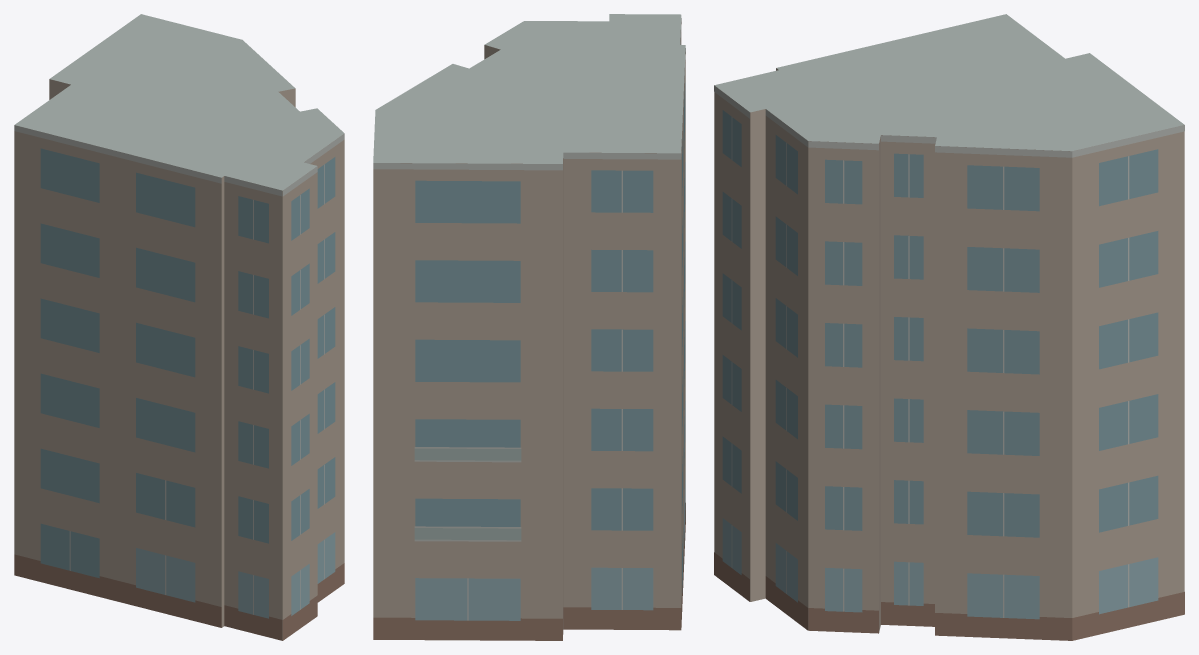
Rendered from survey-upis-32724395.glb.
3 renders of one model, left to right at view 1: azimuth 30°, elevation 25°; view 2: azimuth 150°, elevation 25°; view 3: azimuth 270°, elevation 25°, orthographic. The views are drawn at different scales.
Parts seen in each view (by area): view 1: survey-upis-32724395.tmp; view 2: survey-upis-32724395.tmp; view 3: survey-upis-32724395.tmp.
Part boxes in pixels (<box>): survey-upis-32724395.tmp: <box>14,14,344,640</box>; survey-upis-32724395.tmp: <box>373,14,685,640</box>; survey-upis-32724395.tmp: <box>714,14,1184,640</box>.
Bounding box in the file's own units: 11 × 18.3 × 15.95.
